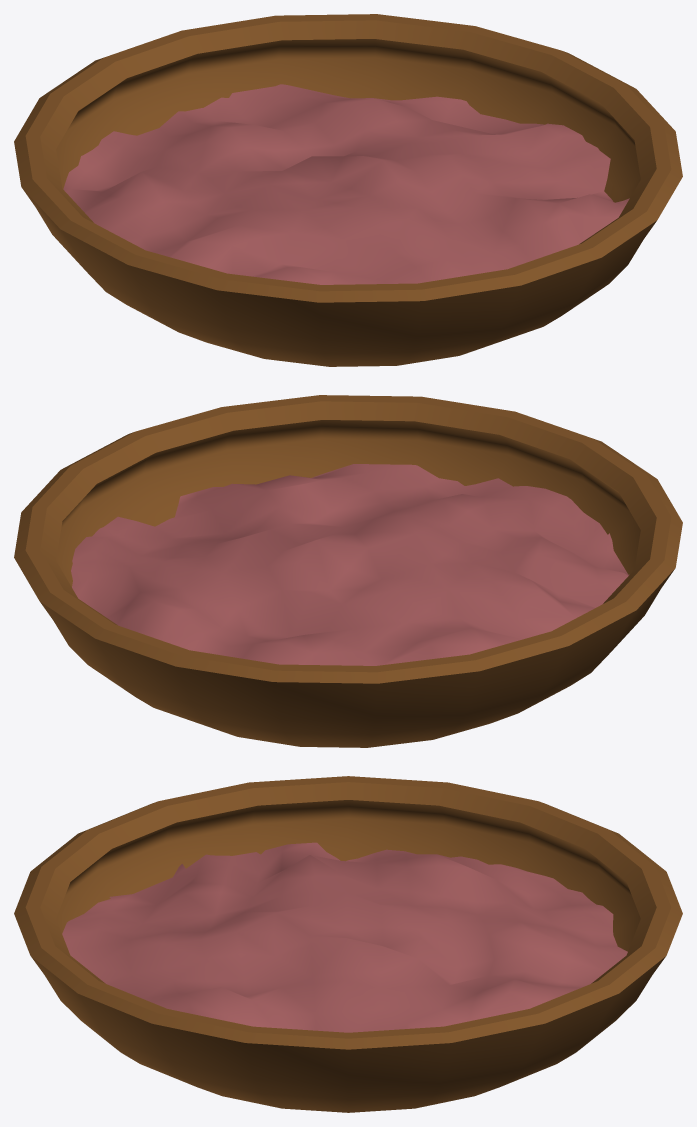
Rendered from mesh_bowl_GroundedBeef.fbx.
3 renders of one model, top to bottom at view 1: azimuth 30°, elevation 25°; view 2: azimuth 150°, elevation 25°; view 3: azimuth 270°, elevation 25°, orthographic. The views are drawn at different scales.
Visible parts, largest first — view 1: mesh_bowl_GroundedBeef; view 2: mesh_bowl_GroundedBeef; view 3: mesh_bowl_GroundedBeef.
Part boxes in pixels (left/top/right/bottom): mesh_bowl_GroundedBeef: left=14, top=14, right=682, bottom=366; mesh_bowl_GroundedBeef: left=14, top=395, right=682, bottom=747; mesh_bowl_GroundedBeef: left=14, top=776, right=682, bottom=1112.
Size of the model in its own units: 0.2546 by 0.062 by 0.2646.
